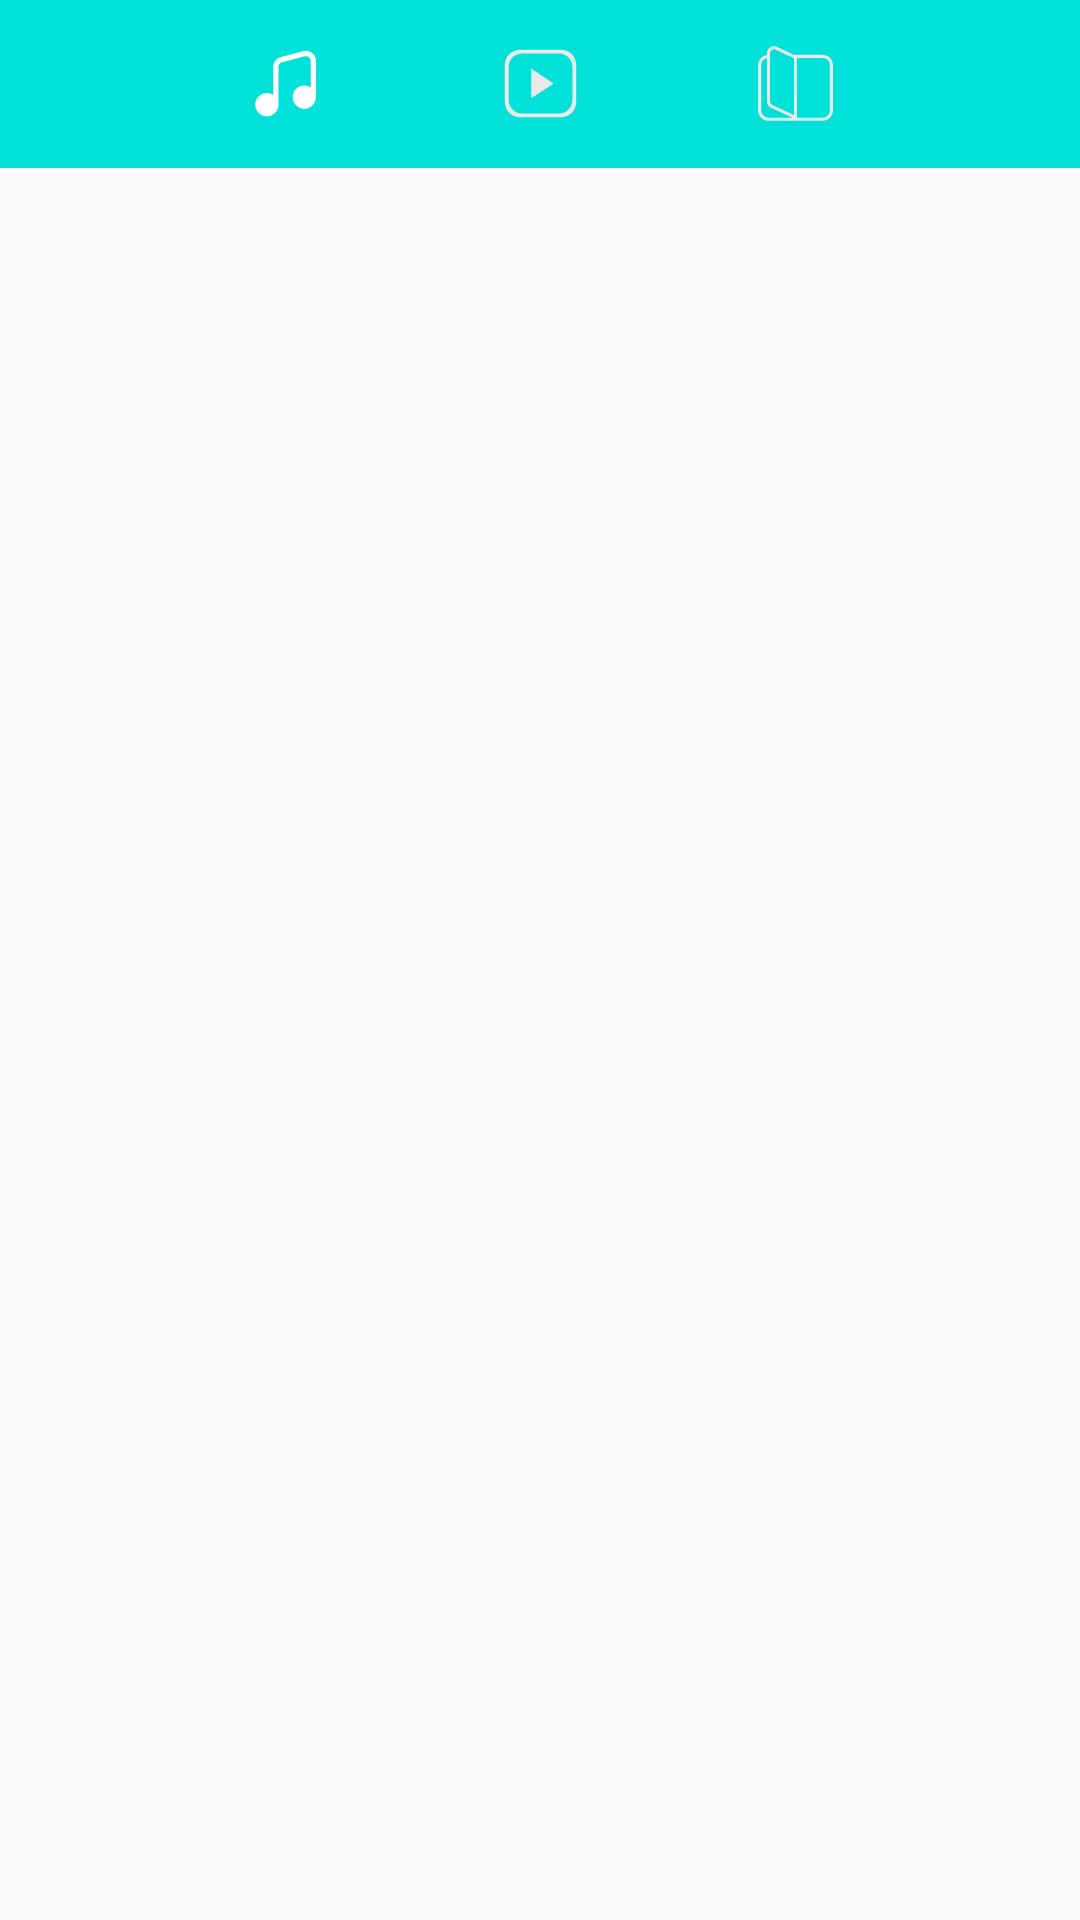

Screen size 1080 × 1920. Icon name, then its box in pixels as rect(x1, y1, x2, y2):
home music: rect(255, 50, 316, 117)
home read: rect(758, 46, 833, 121)
home video: rect(504, 49, 577, 118)
